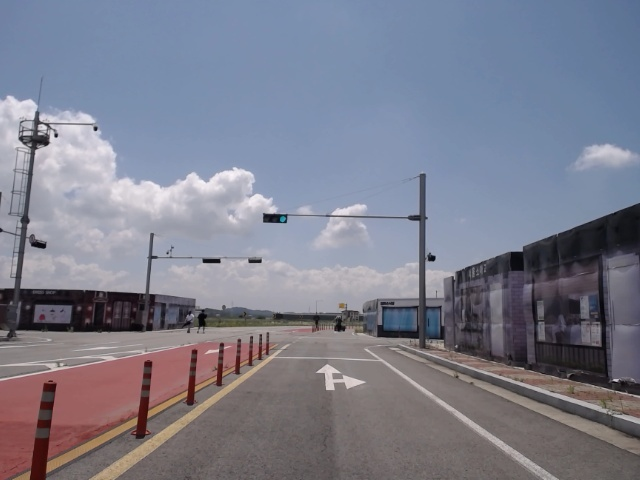green_3: (262, 215, 287, 222)
